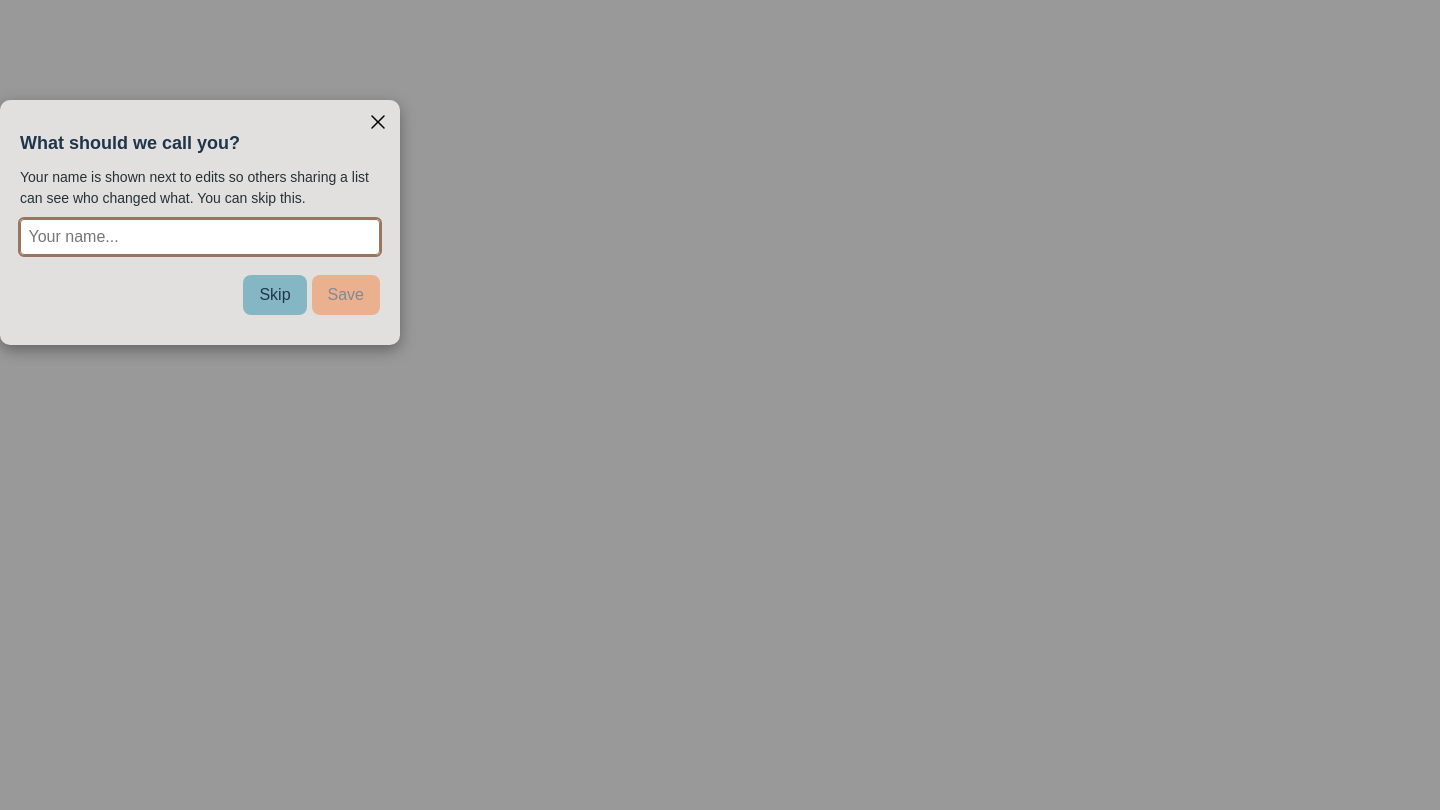
disables Save until a name is entered
Expected: the button "Save" is disabled, 312,275 -> 380,315
Type "Eija" into the field labelled "Your name".
click(200, 237); type("Eija")  # box 20,219 -> 380,255
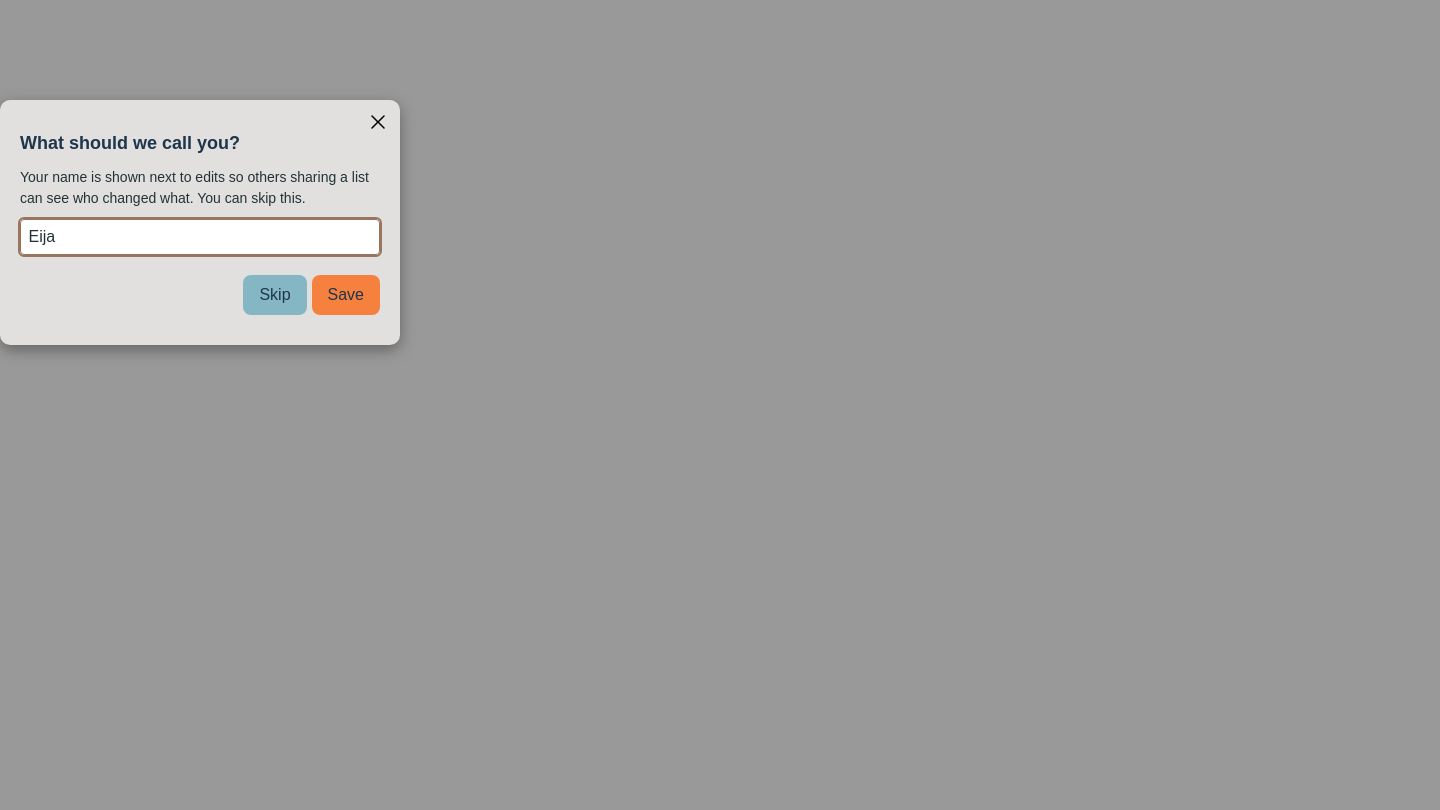
Expected: the button "Save" is enabled, 312,275 -> 380,315
